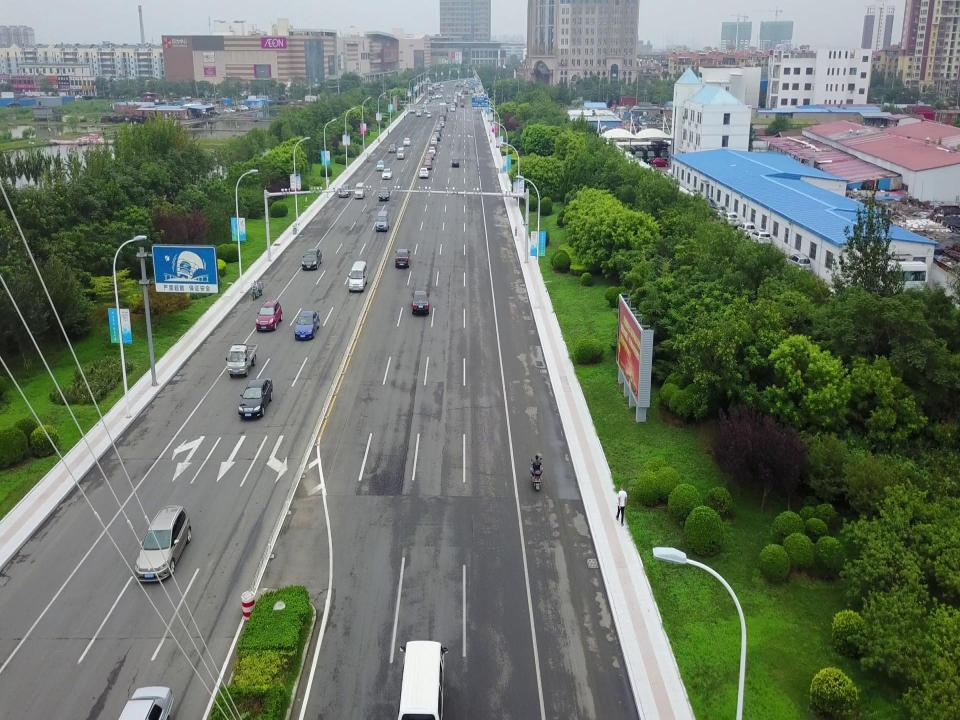car: (134, 505, 192, 582), (238, 378, 274, 418), (255, 299, 283, 332), (294, 310, 320, 342), (301, 247, 323, 271), (410, 290, 430, 315), (394, 247, 411, 269), (337, 183, 351, 199), (378, 185, 390, 202), (382, 168, 392, 180), (376, 160, 386, 172), (419, 166, 429, 178), (423, 158, 433, 169), (388, 144, 397, 154), (452, 157, 460, 168), (424, 156, 433, 164), (426, 151, 434, 160), (428, 146, 436, 155), (428, 144, 437, 152), (430, 137, 438, 146), (403, 137, 410, 146)
truck: (225, 342, 259, 378)
van: (397, 640, 448, 720), (347, 260, 368, 293), (375, 210, 390, 232), (354, 182, 366, 199), (397, 147, 405, 160)
